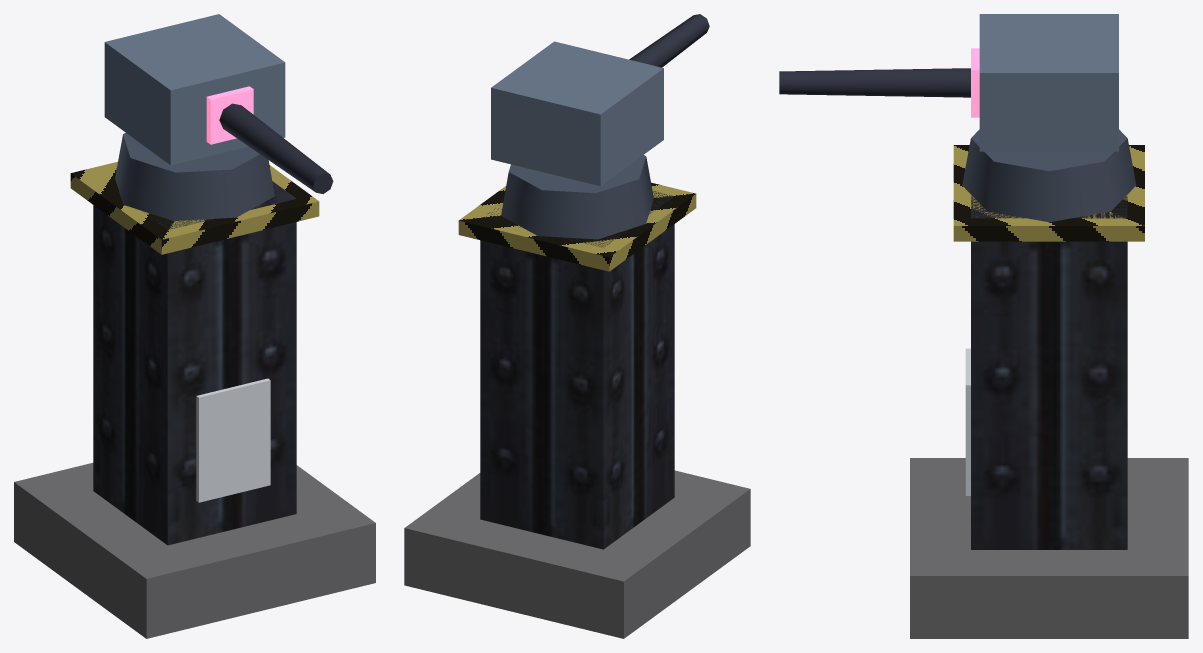
File: arena_turret_pylon.glb
The picture shows the model from 3 angles, left to right: view 1: azimuth 30°, elevation 25°; view 2: azimuth 150°, elevation 25°; view 3: azimuth 270°, elevation 25°; orthographic projection. The views are drawn at different scales.
Parts seen in each view (by area): view 1: pylon, turret_head, turret_base, turret_barrel; view 2: pylon, turret_head, turret_base, turret_barrel; view 3: pylon, turret_head, turret_base, turret_barrel.
Part boxes in pixels (x1,y1,x2,y2): pylon: [14, 161, 375, 638]; turret_head: [104, 14, 285, 165]; turret_base: [115, 132, 274, 220]; turret_barrel: [219, 103, 333, 193]; pylon: [404, 182, 750, 638]; turret_head: [491, 41, 663, 186]; turret_base: [501, 155, 653, 239]; turret_barrel: [629, 14, 709, 67]; pylon: [910, 145, 1188, 638]; turret_head: [971, 14, 1118, 151]; turret_base: [962, 129, 1136, 222]; turret_barrel: [779, 68, 970, 97].
Size of the model in its own units: 1.6 by 3.4 by 2.35.
Materials: 8 (2 with a texture image).
